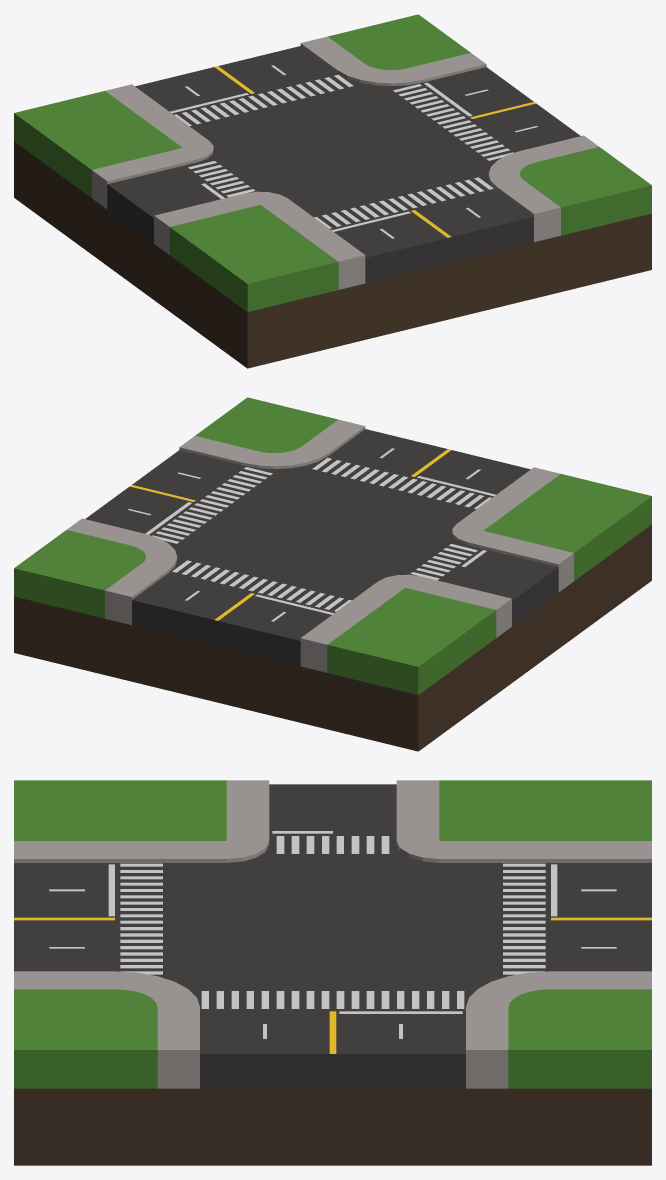
File: tile-mainroad-road-intersection.glb
3 renders of one model, top to bottom at view 1: azimuth 30°, elevation 25°; view 2: azimuth 150°, elevation 25°; view 3: azimuth 270°, elevation 25°, orthographic. The views are drawn at different scales.
Parts seen in each view (by area): view 1: tile-mainroad-road-intersection; view 2: tile-mainroad-road-intersection; view 3: tile-mainroad-road-intersection.
Part boxes in pixels (x1,y1,x2,y2): tile-mainroad-road-intersection: (14, 14, 651, 368); tile-mainroad-road-intersection: (14, 397, 651, 751); tile-mainroad-road-intersection: (14, 780, 651, 1165).
Size of the model in its own units: 30 by 6 by 30.
Materials: 1 (1 with a texture image).
